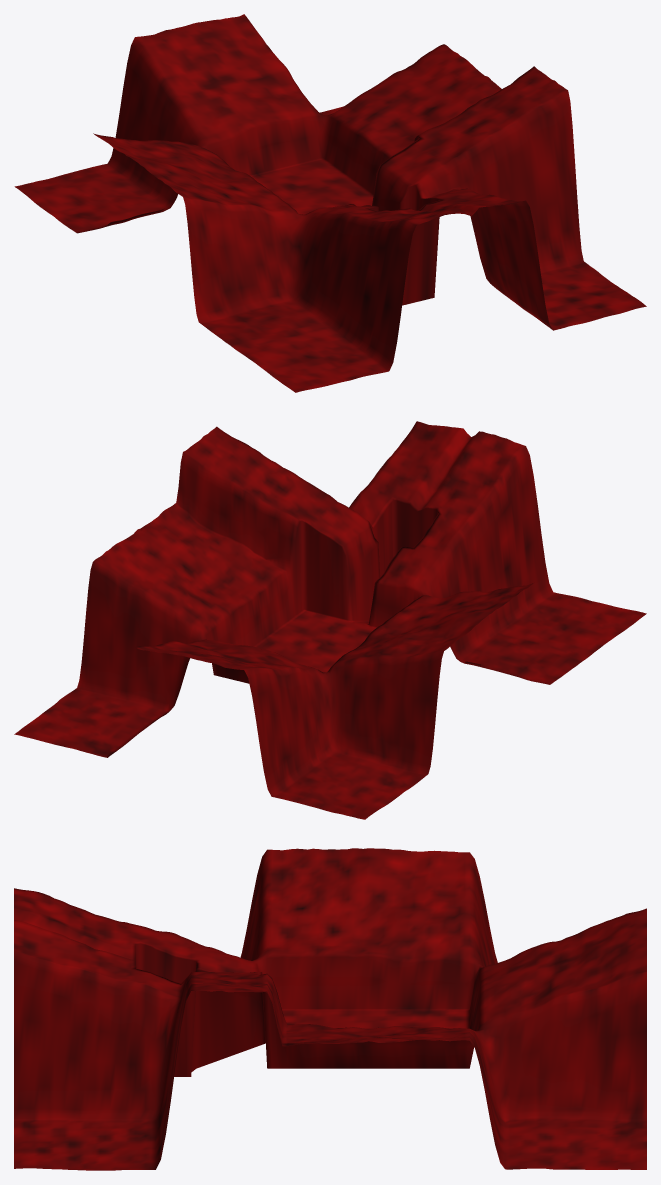
The model's file is cloudloom_ground.glb.
The picture shows the model from 3 angles, top to bottom: view 1: azimuth 30°, elevation 25°; view 2: azimuth 150°, elevation 25°; view 3: azimuth 270°, elevation 25°; orthographic projection. The views are drawn at different scales.
Parts seen in each view (by area): view 1: cloudloom_ground; view 2: cloudloom_ground; view 3: cloudloom_ground.
Boxes of the visible parts, x1,y1,x2,y2 form: cloudloom_ground: (14,14,646,392); cloudloom_ground: (14,421,646,819); cloudloom_ground: (14,848,646,1170).
Size of what is drawn, in the model's own units: 90 by 39.39 by 125.
